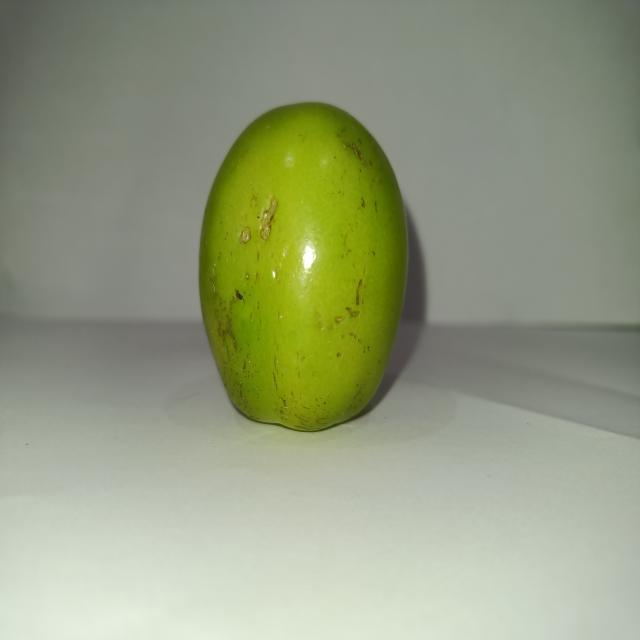Red: (196, 99, 410, 432)
